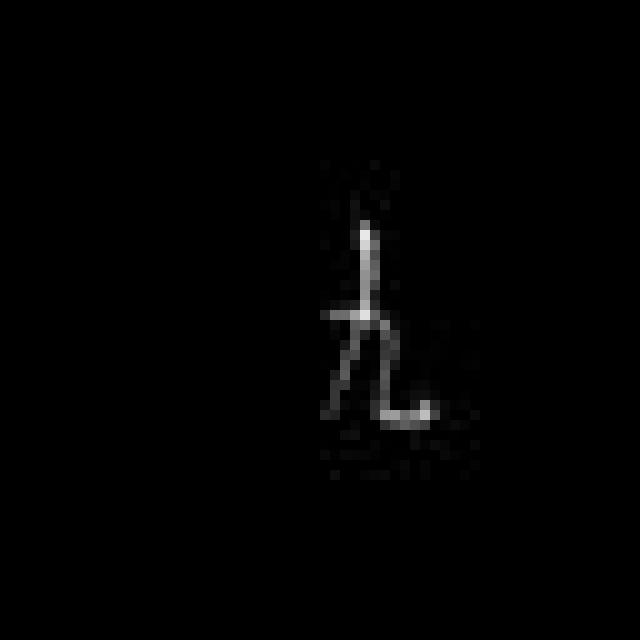9 -nine-: (308, 209, 435, 436)
